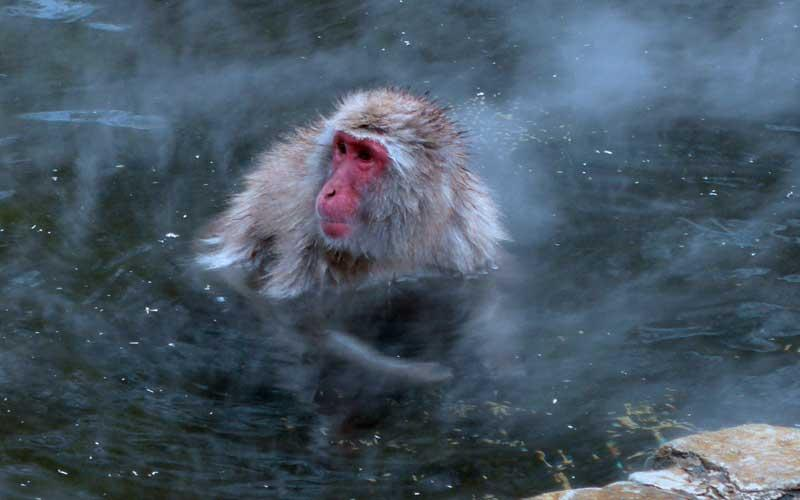monkey: (208, 87, 511, 300)
